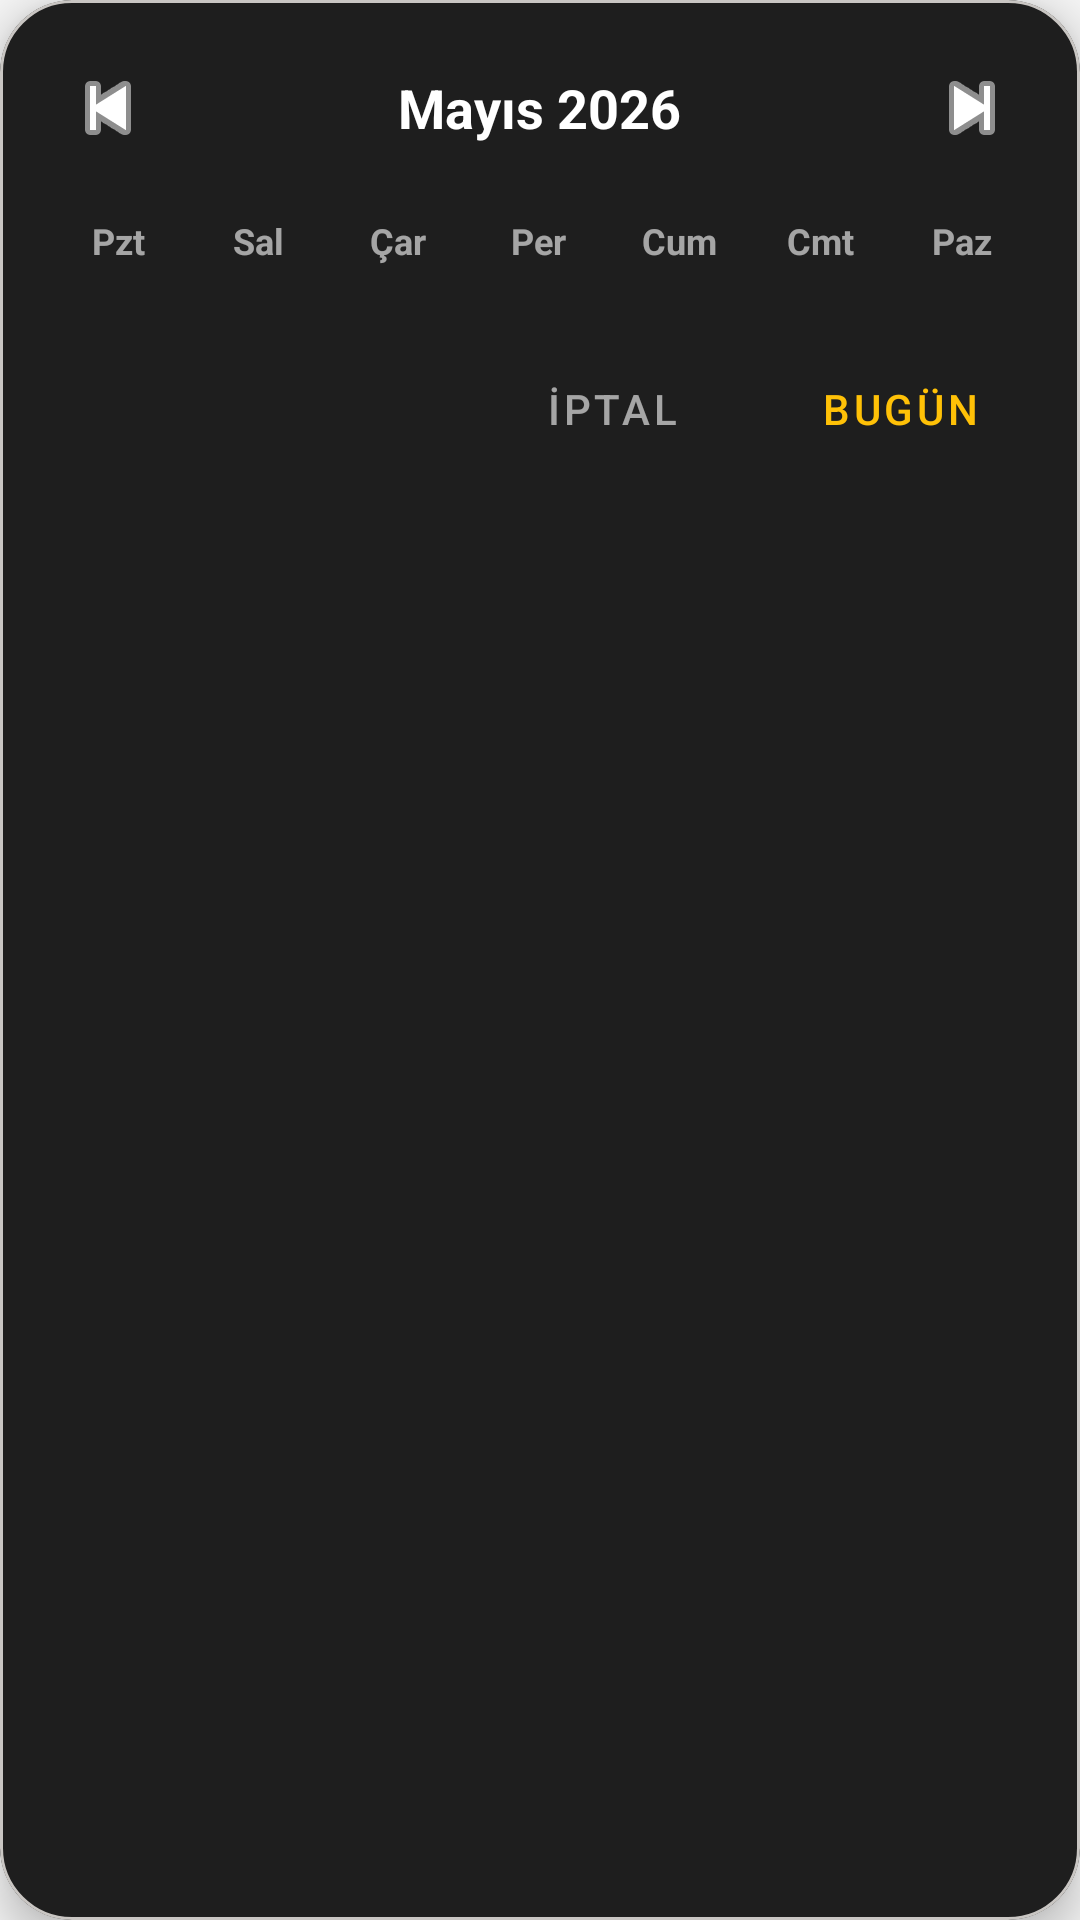

Named icons in this screenshot (1080*1920) and their bounding boxes, (x1, y1, x2, y2):
next: (949, 81, 995, 135)
previous: (85, 81, 131, 135)
